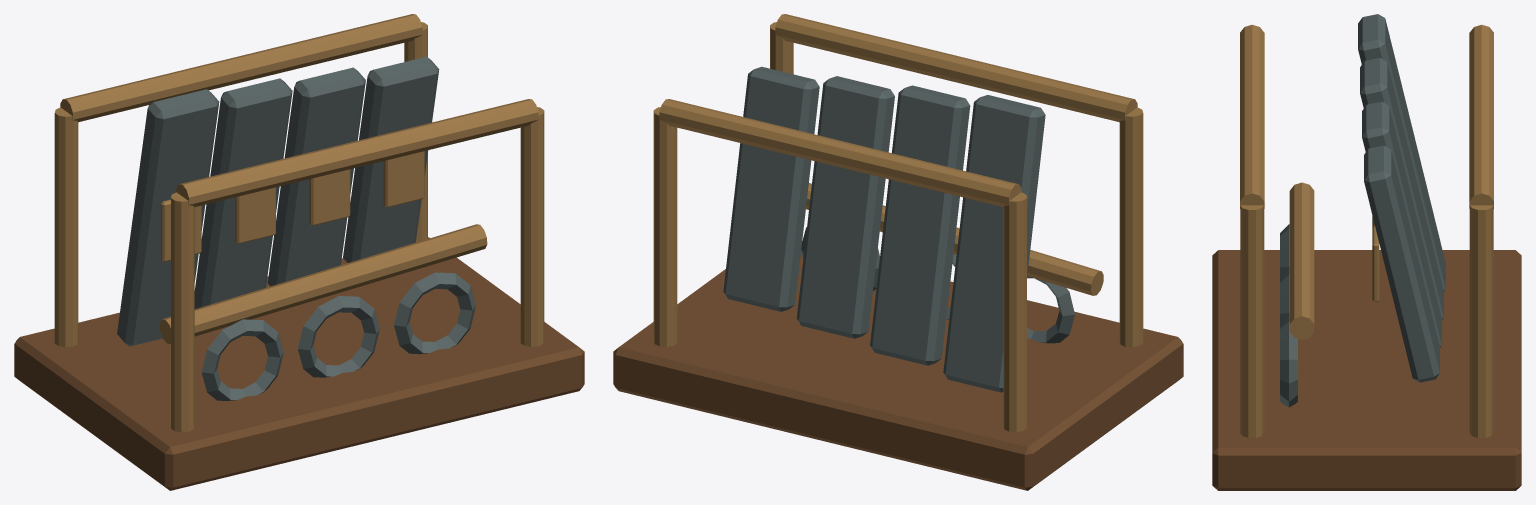
The model's file is scrap_display_rack.glb.
3 views of the same model, side by side, from view 1: azimuth 30°, elevation 25°; view 2: azimuth 150°, elevation 25°; view 3: azimuth 270°, elevation 25° (orthographic).
Parts seen in each view (by area): view 1: scrap_display_rack; view 2: scrap_display_rack; view 3: scrap_display_rack.
Part boxes in pixels (box(x1,y1,x2,y2)): scrap_display_rack: box(14, 14, 584, 490); scrap_display_rack: box(613, 14, 1183, 490); scrap_display_rack: box(1212, 14, 1521, 490).
Size of the model in its own units: 0.48 by 0.3433 by 0.31.
